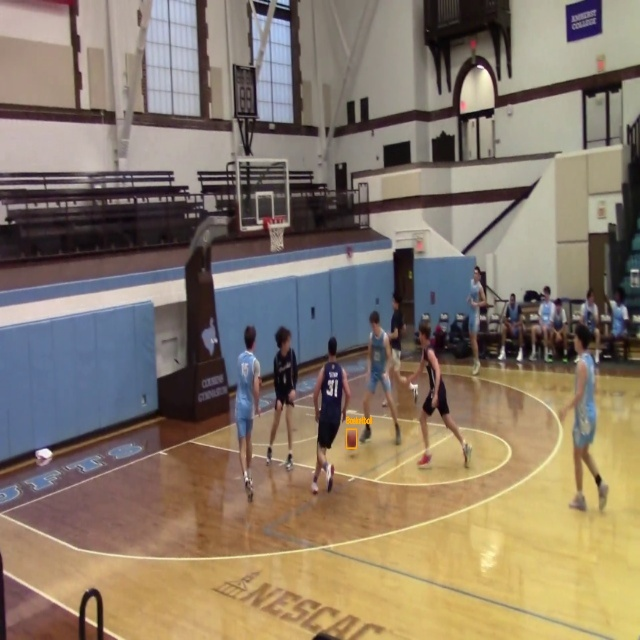Basketball: (346, 430, 357, 448)
